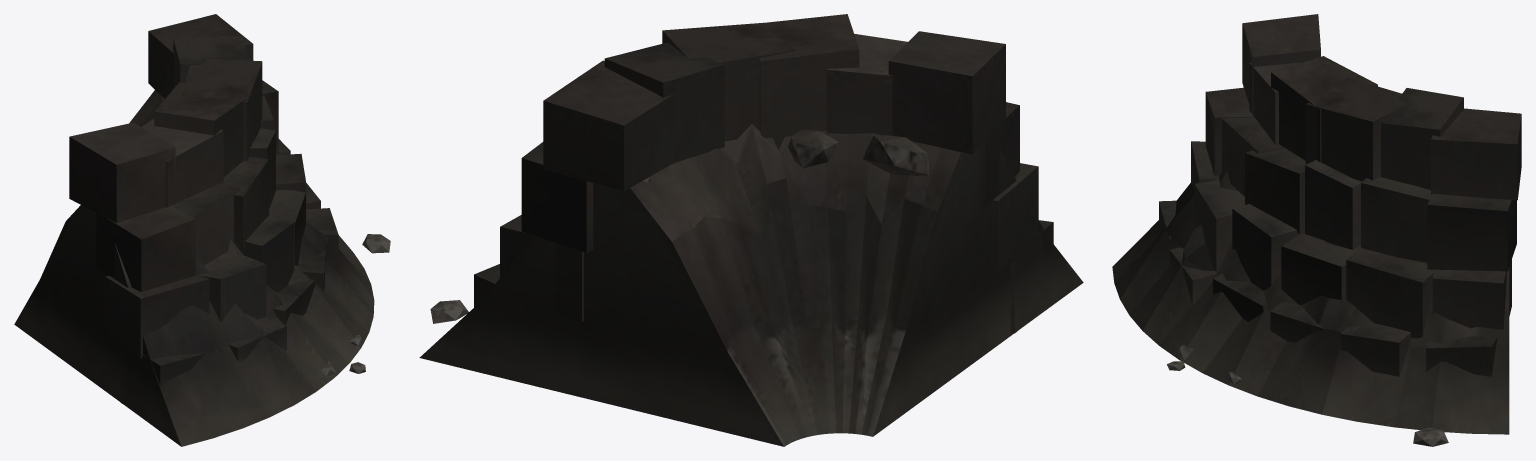
File: cliff-vulcanus-outer.glb
3 views of the same model, side by side, from view 1: azimuth 30°, elevation 25°; view 2: azimuth 150°, elevation 25°; view 3: azimuth 270°, elevation 25° (orthographic). The views are drawn at different scales.
Parts seen in each view (by area): view 1: cliff-vulcanus-outer; view 2: cliff-vulcanus-outer; view 3: cliff-vulcanus-outer.
Boxes of the visible parts, box(x1,y1,x2,y2) form: cliff-vulcanus-outer: box(14, 14, 390, 446); cliff-vulcanus-outer: box(419, 14, 1083, 446); cliff-vulcanus-outer: box(1112, 14, 1521, 446).
Size of the model in its own units: 4.18 by 2.62 by 3.87.
2 materials, 2 textured.
